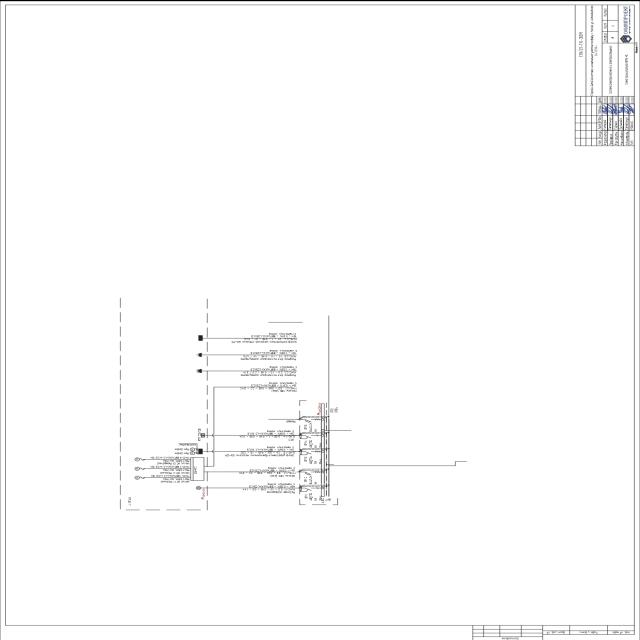-: (308, 438, 322, 448), (309, 454, 322, 464), (308, 492, 322, 501), (309, 474, 318, 484), (309, 422, 318, 432), (329, 404, 339, 412)
QF: (303, 417, 320, 422), (303, 470, 320, 474)
QFD: (300, 447, 320, 455), (299, 431, 319, 439), (299, 484, 319, 492)
